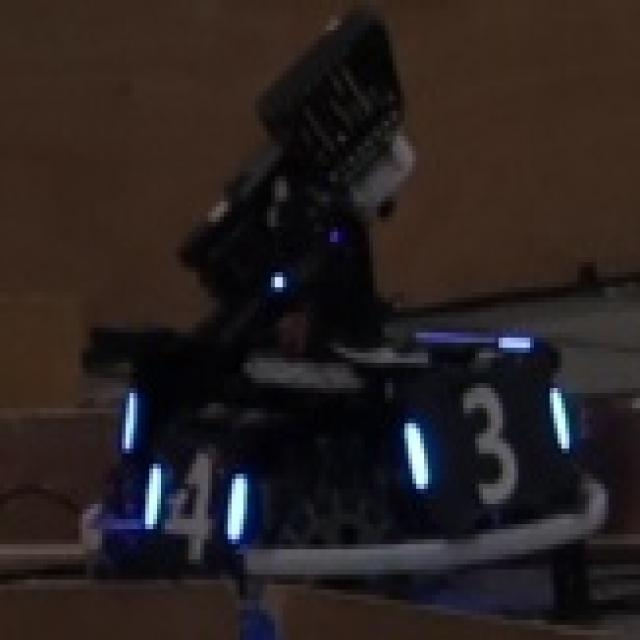B3: (401, 373, 574, 504)
B4: (142, 444, 248, 560)
